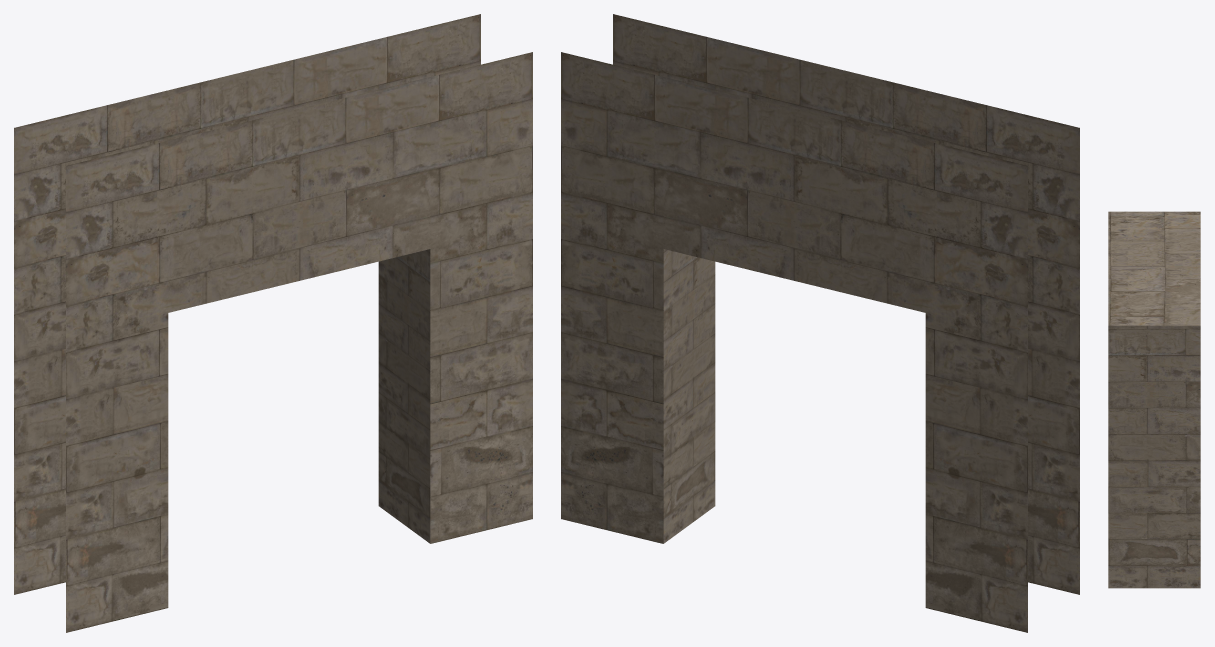
Rendered from door_frame.glb.
3 renders of one model, left to right at view 1: azimuth 30°, elevation 25°; view 2: azimuth 150°, elevation 25°; view 3: azimuth 270°, elevation 25°, orthographic. The views are drawn at different scales.
Visible parts, largest first — view 1: frame; view 2: frame; view 3: frame.
Part boxes in pixels (x1,y1,x2,y2): frame: (14,14,532,632); frame: (561,14,1079,632); frame: (1108,211,1200,588).
Bounding box in the file's own units: 5.18 × 4.95 × 0.9976.
Materials: 1 (1 with a texture image).
